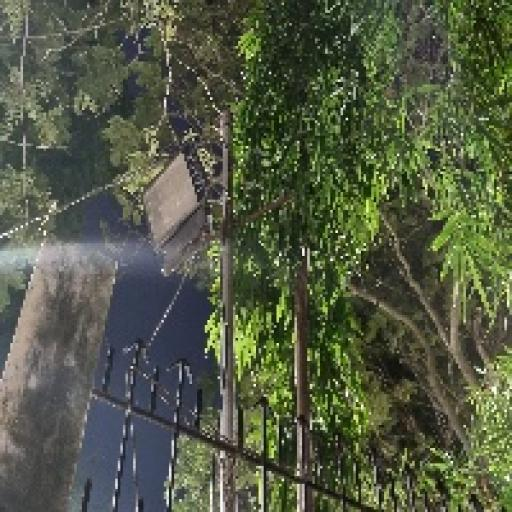Not Working: (126, 137, 233, 277)
